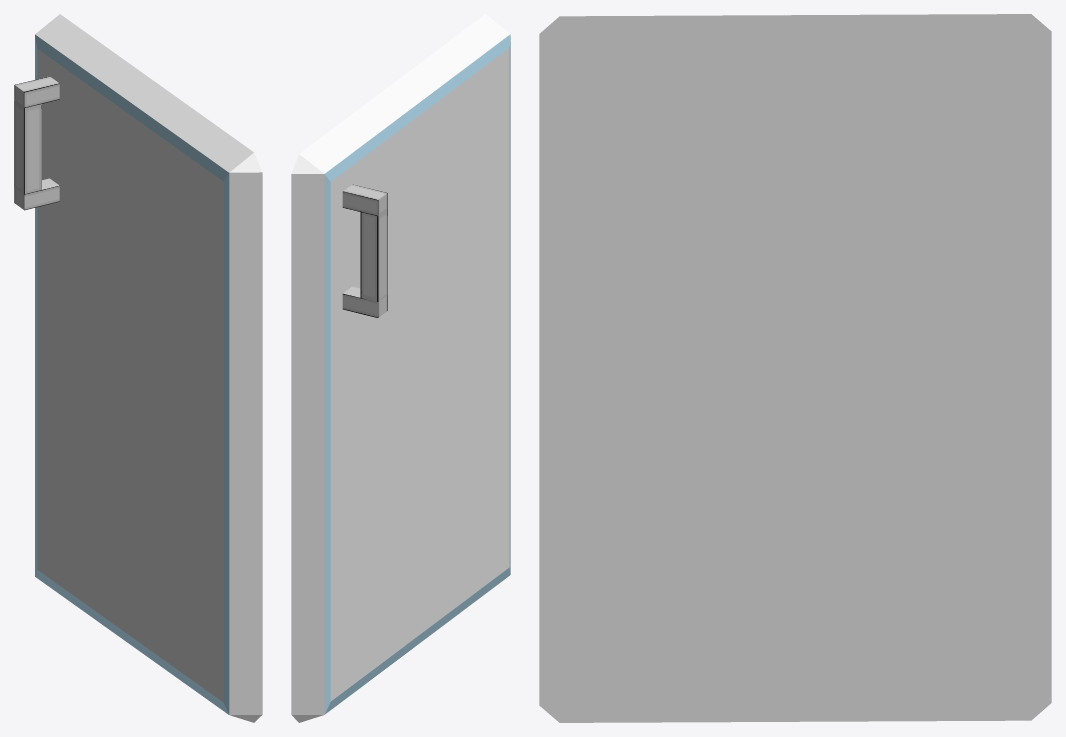
File: Refrigerator_Door_Main.fbx
3 views of the same model, side by side, from view 1: azimuth 30°, elevation 25°; view 2: azimuth 150°, elevation 25°; view 3: azimuth 270°, elevation 25° (orthographic). The views are drawn at different scales.
Visible parts, largest first — view 1: Door2; view 2: Door2; view 3: Door2.
Boxes of the visible parts, bbox=[...] form: Door2: bbox=[14, 14, 262, 722]; Door2: bbox=[291, 14, 510, 722]; Door2: bbox=[539, 14, 1051, 722].
Size of the model in its own units: 17.49 by 144 by 94.51.
